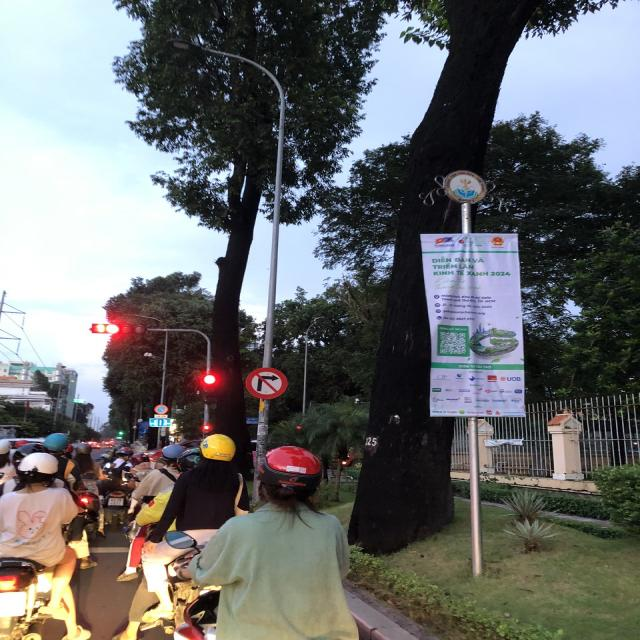Bien bao cam re phai: (242, 363, 291, 403)
